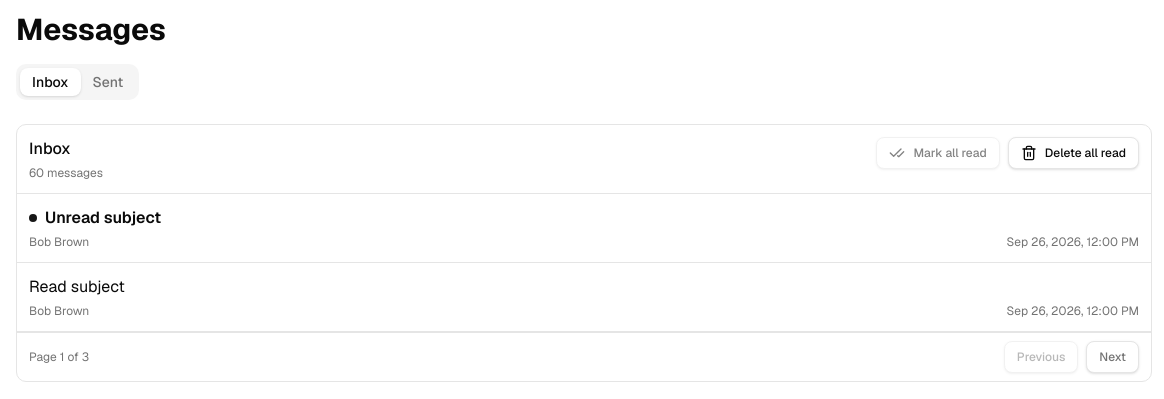
Test: MessagesPage delete controls › pages the inbox when there are more messages than fit on one page
Expected: the text "Page 1 of 3" is shown, [29,349,89,365]
Click the button "Next" at (1113, 357), box [1086,341,1139,373]
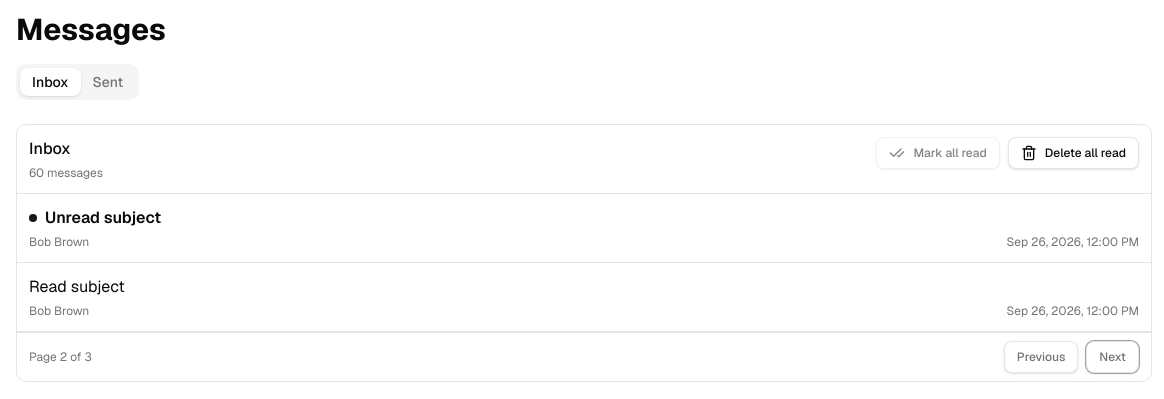
Expected: the text "Page 2 of 3" is shown, [29,349,92,365]
